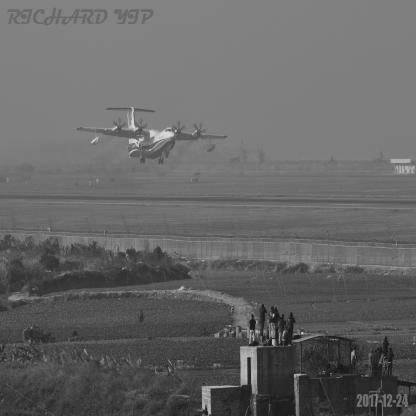AG600: (77, 108, 229, 166)
